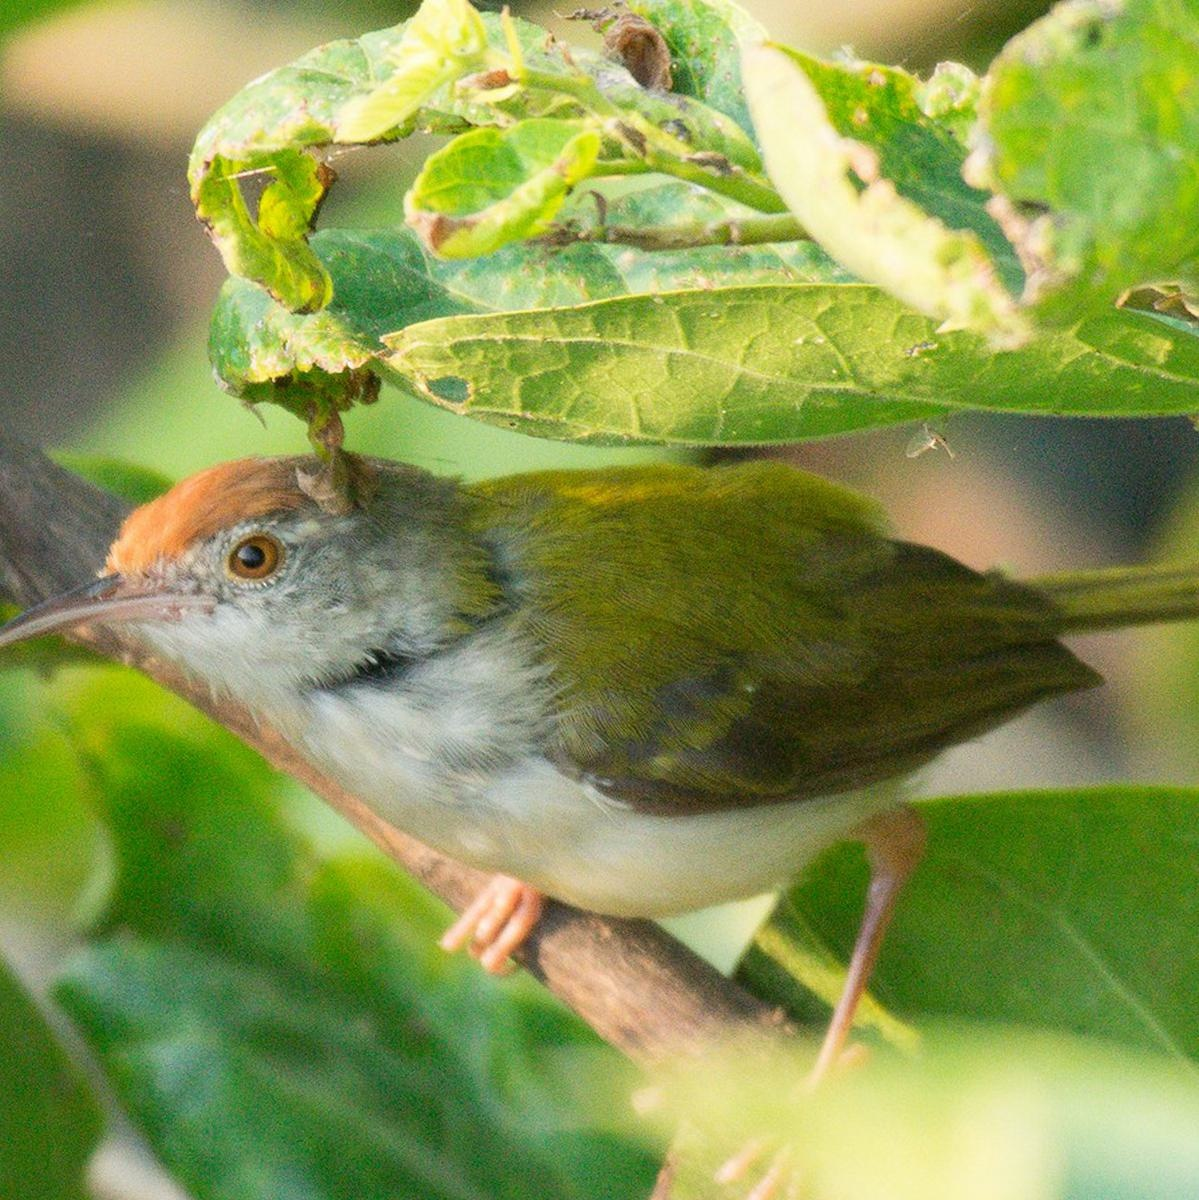tailorbird: (80, 414, 1199, 1030)
